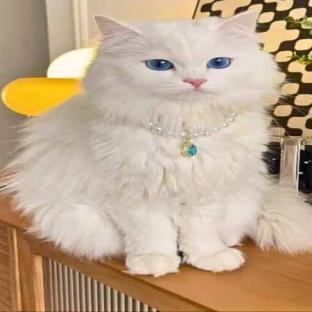Animal: (6, 11, 311, 276)
